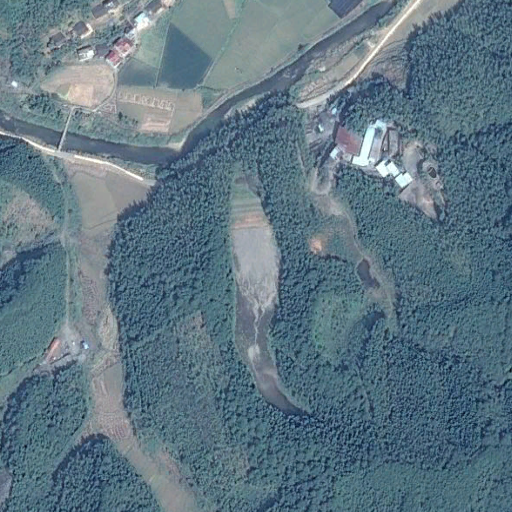tp: (220, 168, 302, 418)
